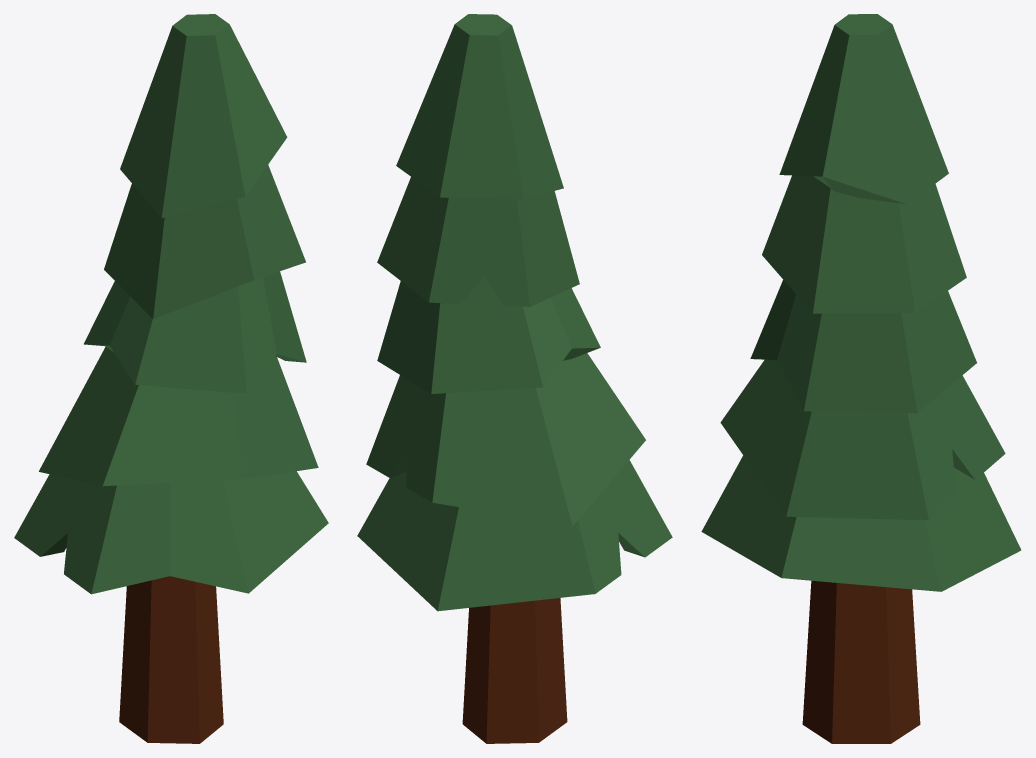
Rendered from tree2.fbx.
3 renders of one model, left to right at view 1: azimuth 30°, elevation 25°; view 2: azimuth 150°, elevation 25°; view 3: azimuth 270°, elevation 25°, orthographic. The views are drawn at different scales.
Visible parts, largest first — view 1: Cylinder.001, Cylinder.003, Cylinder.006, Cylinder.005, Cylinder.004, Cylinder; view 2: Cylinder.003, Cylinder.001, Cylinder.006, Cylinder.005, Cylinder.004, Cylinder; view 3: Cylinder.003, Cylinder.001, Cylinder.005, Cylinder.006, Cylinder.004, Cylinder.
Part boxes in pixels (<box>): Cylinder.001: <box>14,471,328,594</box>; Cylinder.003: <box>39,347,318,486</box>; Cylinder.006: <box>120,14,287,217</box>; Cylinder.005: <box>104,165,305,318</box>; Cylinder.004: <box>84,271,306,393</box>; Cylinder: <box>119,576,223,743</box>; Cylinder.003: <box>366,353,645,526</box>; Cylinder.001: <box>357,460,672,611</box>; Cylinder.006: <box>396,14,563,198</box>; Cylinder.005: <box>377,177,579,306</box>; Cylinder.004: <box>377,276,600,393</box>; Cylinder: <box>462,598,567,743</box>; Cylinder.003: <box>720,359,1005,520</box>; Cylinder.001: <box>701,455,1021,591</box>; Cylinder.005: <box>762,175,966,313</box>; Cylinder.006: <box>779,14,948,204</box>; Cylinder.004: <box>750,279,976,413</box>; Cylinder: <box>802,580,920,743</box>.
Bounding box in the file's own units: 691 × 1919 × 778.
